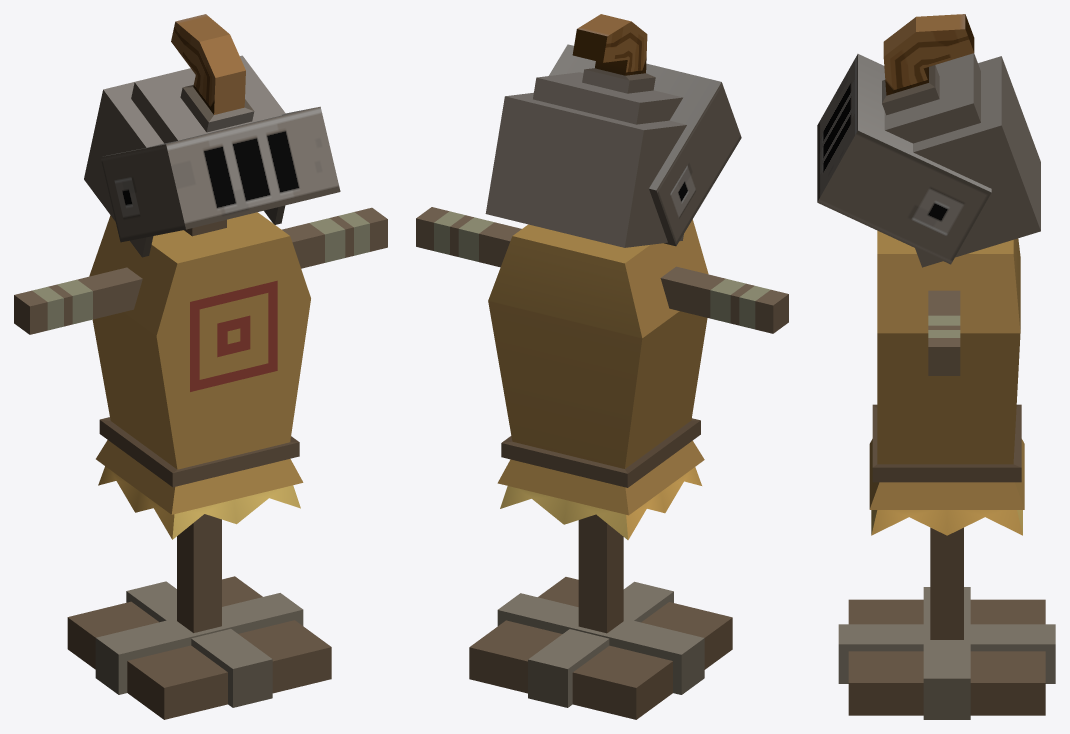
The model's file is ManmadeLess_SF_Prop_TrainingDummy_02.fbx.
The picture shows the model from 3 angles, left to right: view 1: azimuth 30°, elevation 25°; view 2: azimuth 150°, elevation 25°; view 3: azimuth 270°, elevation 25°; orthographic projection. The views are drawn at different scales.
Visible parts, largest first — view 1: SF_Prop_TrainingDummy_02; view 2: SF_Prop_TrainingDummy_02; view 3: SF_Prop_TrainingDummy_02.
Part boxes in pixels (left/top/right/bottom): SF_Prop_TrainingDummy_02: left=14, top=14, right=387, bottom=719; SF_Prop_TrainingDummy_02: left=416, top=14, right=788, bottom=719; SF_Prop_TrainingDummy_02: left=817, top=14, right=1055, bottom=719.
Size of the model in its own units: 143 by 244 by 80.76.
